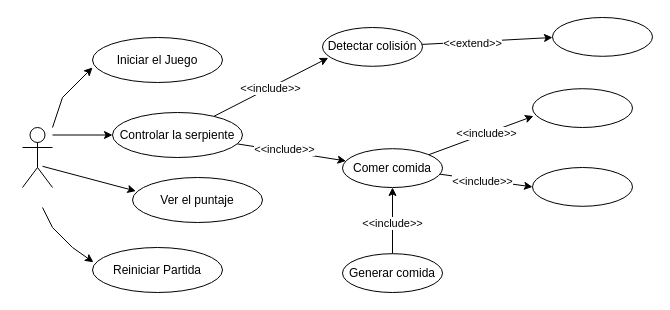
Image size: 670x310. Some labels were removed from this diagram. The shapes that lost their labels are listed below. From the top down, each one's centre as x and y in pixels, then its label:
the point at 602,36: Finalizar Partida
the point at 582,108: Aumentar tamaño
the point at 37,157: Usuario
the point at 582,186: Actualizar puntaje
